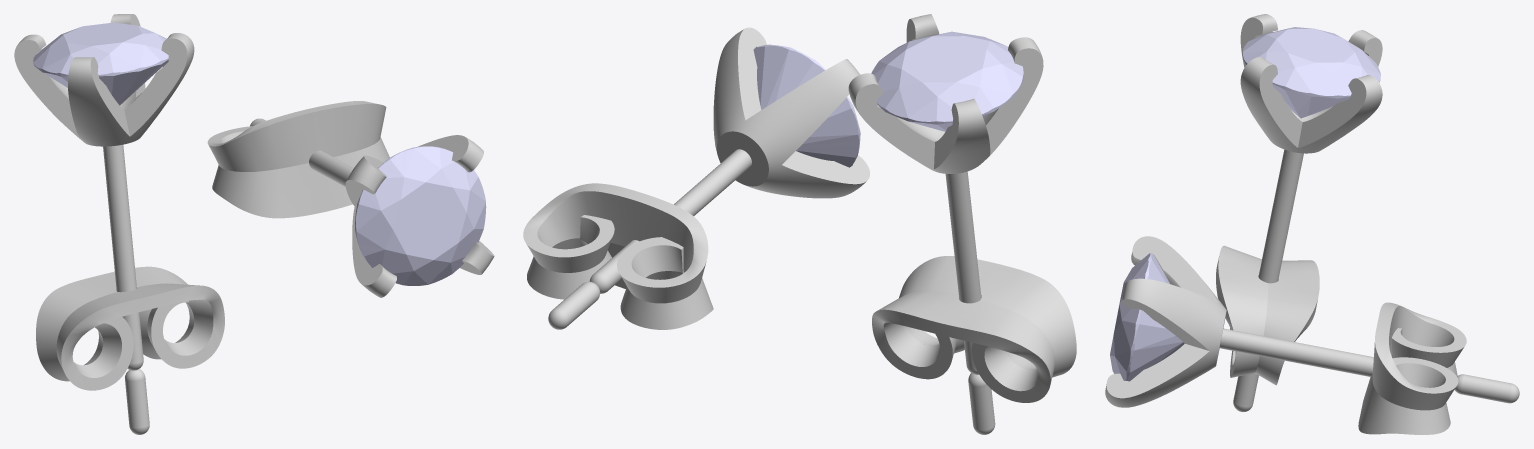
3 views of the same model, side by side, from view 1: azimuth 30°, elevation 25°; view 2: azimuth 150°, elevation 25°; view 3: azimuth 270°, elevation 25° (orthographic). The views are drawn at different scales.
Visible parts, largest first — view 1: EAR-2508346_3D.3dm; view 2: EAR-2508346_3D.3dm; view 3: EAR-2508346_3D.3dm.
Boxes of the visible parts, bbox=[...] form: EAR-2508346_3D.3dm: bbox=[14, 14, 494, 434]; EAR-2508346_3D.3dm: bbox=[523, 14, 1076, 434]; EAR-2508346_3D.3dm: bbox=[1105, 14, 1519, 434].
Bounding box in the file's own units: 2.5 × 2.2 × 2.22.
